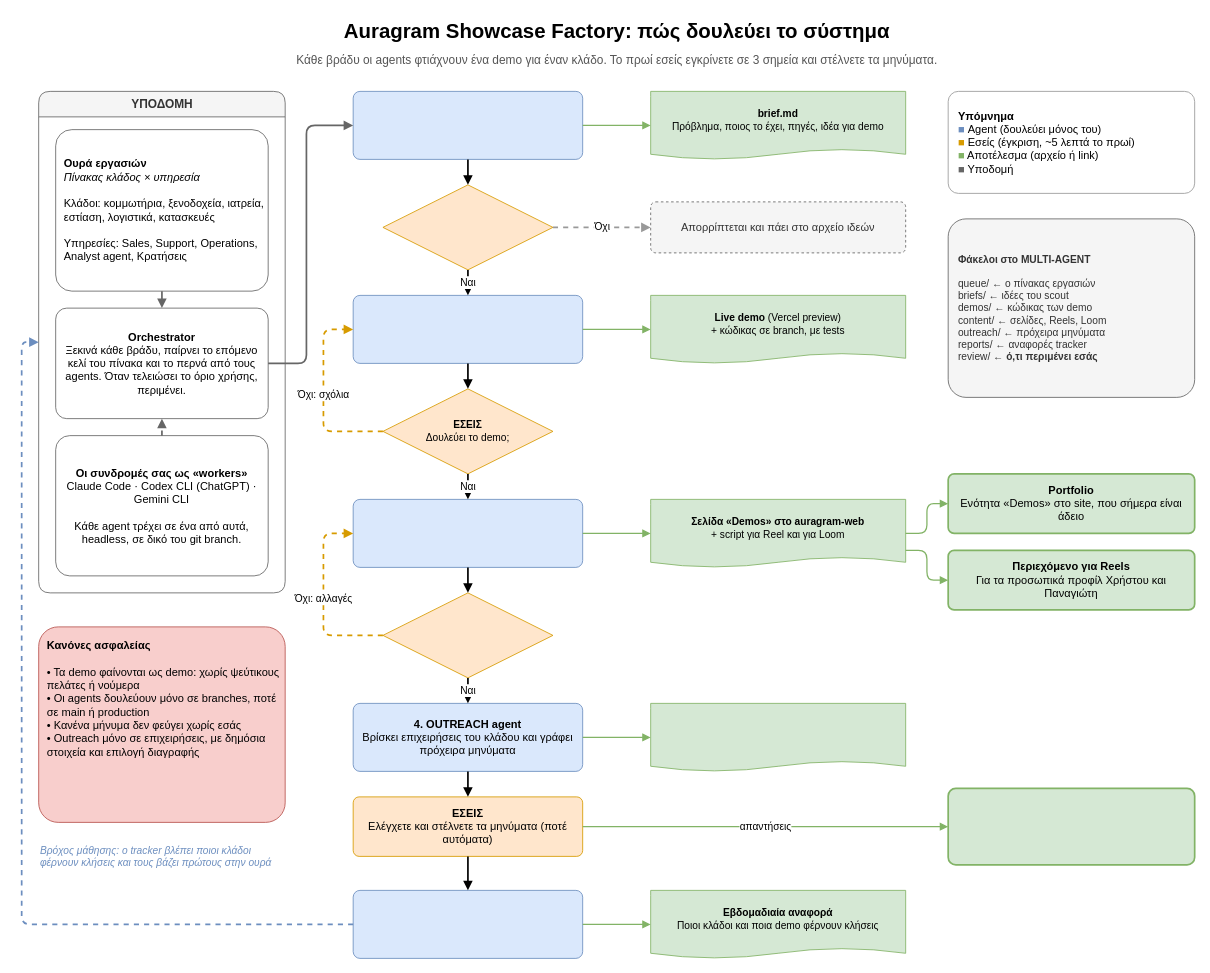
Some shapes in this 1210 by 973 pixel diagram are drawn without their labels. Here are the shapes that lost their labels. From the top down, the centre of each, then its label:
the point at 467,125: 1. SCOUT agent Ψάχνει τι πονάει πραγματικά στον κλάδο (κριτικές, forums, ομάδες)
the point at 467,227: ΕΣΕΙΣ Αξίζει η ιδέα;
the point at 467,329: 2. BUILDER agent Φτιάχνει δουλεμένο demo Next.js · Supabase · Vercel
the point at 467,533: 3. CONTENT agent Σελίδα demo, script για Reel και για Loom
the point at 467,635: ΕΣΕΙΣ Εντάξει για δημοσίευση;
the point at 778,737: Λίστα 10–20 επιχειρήσεων + προσωποποιημένα πρόχειρα email ή DM
the point at 1071,826: Πελάτες Κλήση «Χάρτης AI» → Pilot 2–4 εβδομάδων → έργο
the point at 467,924: 5. TRACKER agent Μετράει απαντήσεις, κλήσεις και τι αποδίδει
